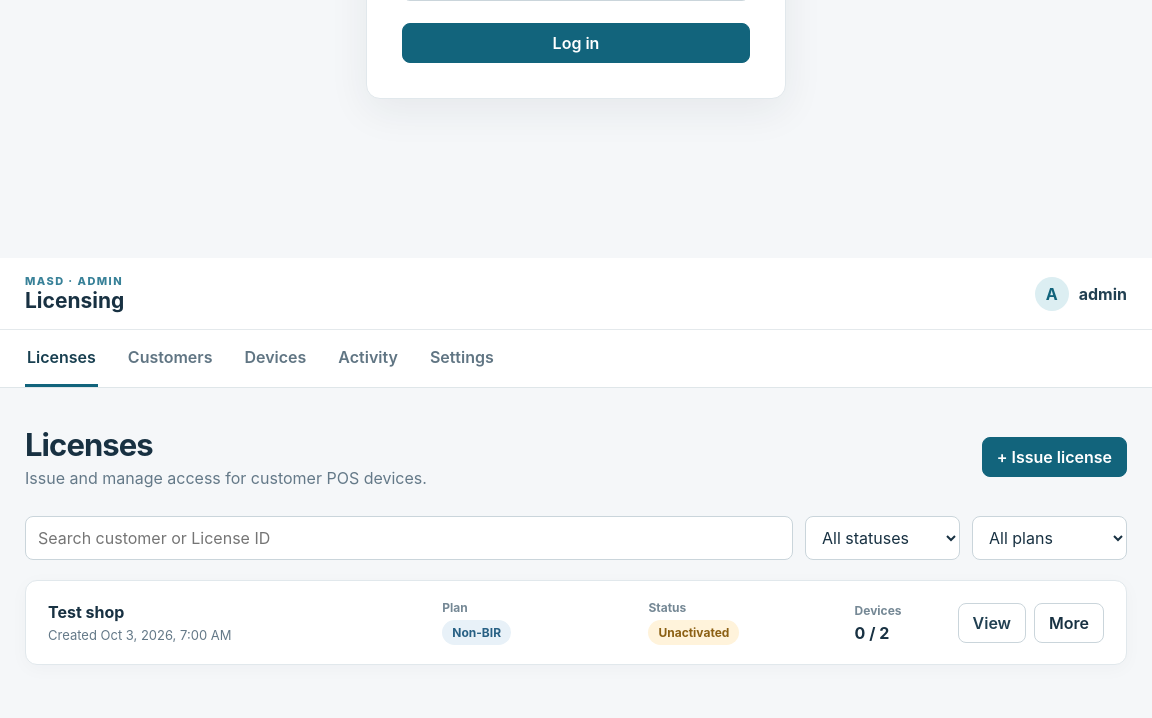
Test: activity HTML 404 leaves licenses and customers usable
This screenshot has width=1152, height=718.
(page scrolled)
Check: the heading "Licenses" is shown, box [25,426,153,463]
Check: the text "0 / 2" is shown, box [854,622,889,642]
Click the button "Customers": (170, 358) [126,330,214,387]
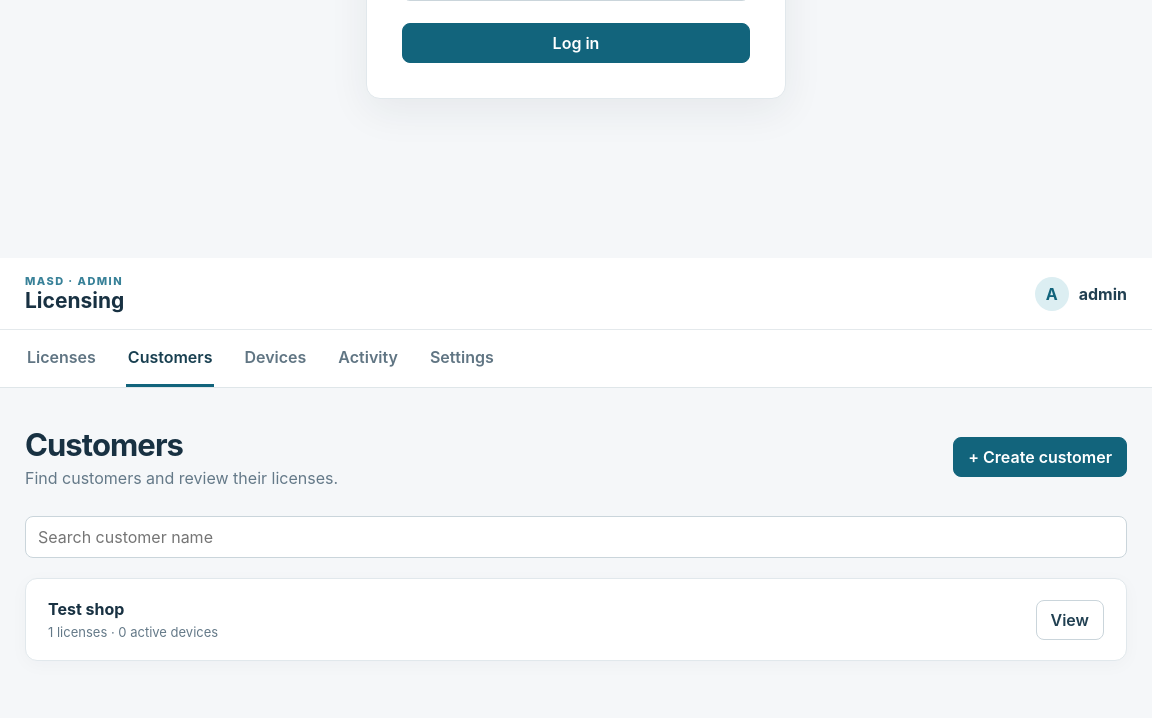
Check: the text "1 licenses · 0 active devices" is shown, box [48,624,218,640]
Click the button "Activity": (368, 358) [336,330,400,387]
(page scrolled)
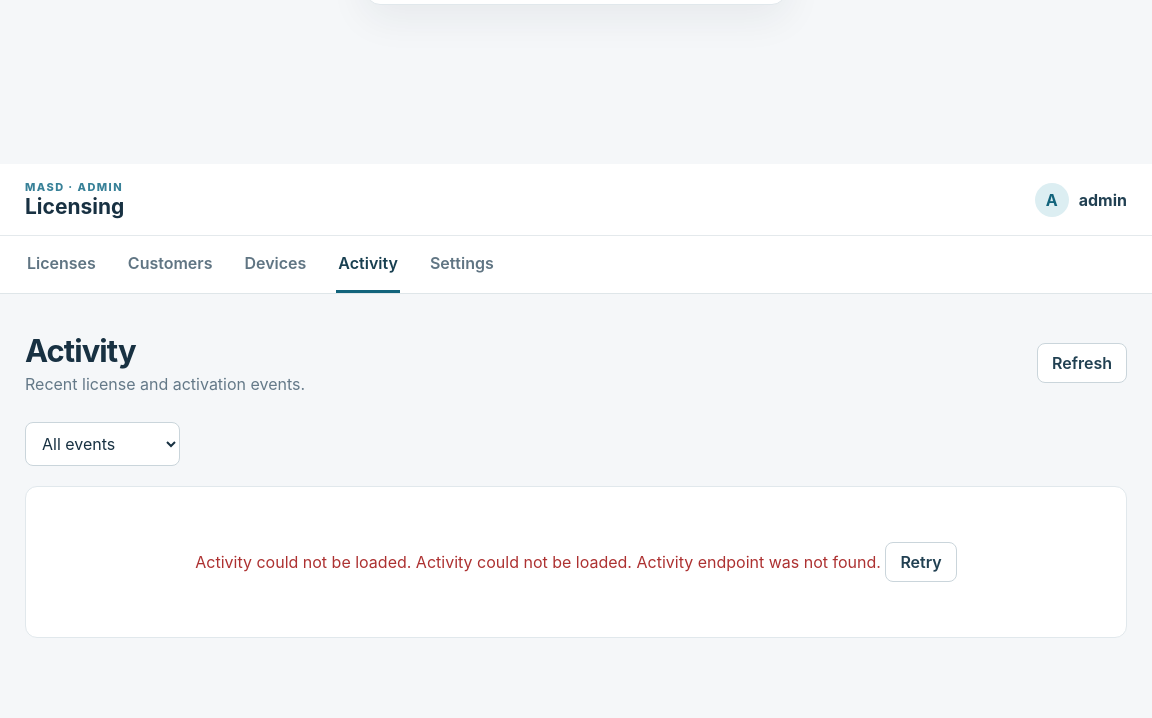
Check: the text "Activity endpoint was not found" is shown, box [416,552,881,572]
